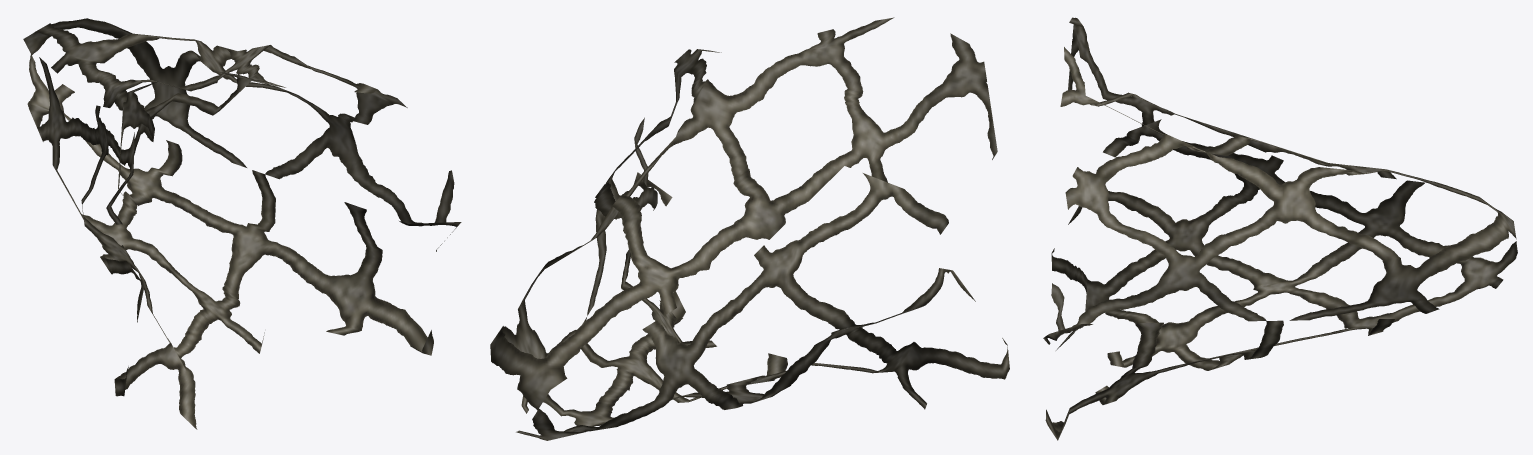
The model's file is TI_FishNet_02.fbx.
3 views of the same model, side by side, from view 1: azimuth 30°, elevation 25°; view 2: azimuth 150°, elevation 25°; view 3: azimuth 270°, elevation 25° (orthographic). The views are drawn at different scales.
Visible parts, largest first — view 1: TI_FishNet_02; view 2: TI_FishNet_02; view 3: TI_FishNet_02.
Part boxes in pixels (<box>): TI_FishNet_02: <box>23,18,461,429</box>; TI_FishNet_02: <box>490,17,1009,440</box>; TI_FishNet_02: <box>1043,17,1517,440</box>.
Size of the model in its own units: 2.13 by 2.14 by 2.87.
